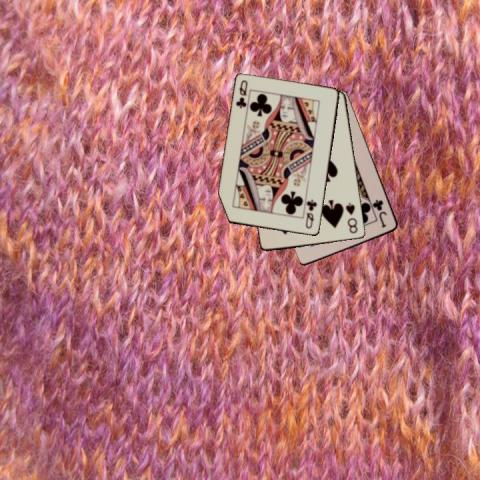8s: (343, 199, 359, 235)
Jc: (370, 196, 389, 228)
Qc: (302, 197, 318, 230), (234, 77, 250, 110)
